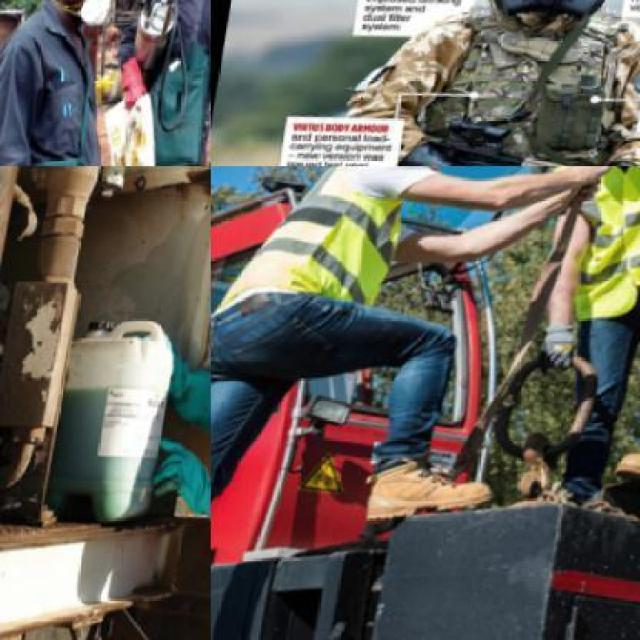Vest: (425, 0, 637, 165), (220, 166, 420, 332), (562, 166, 638, 346)
